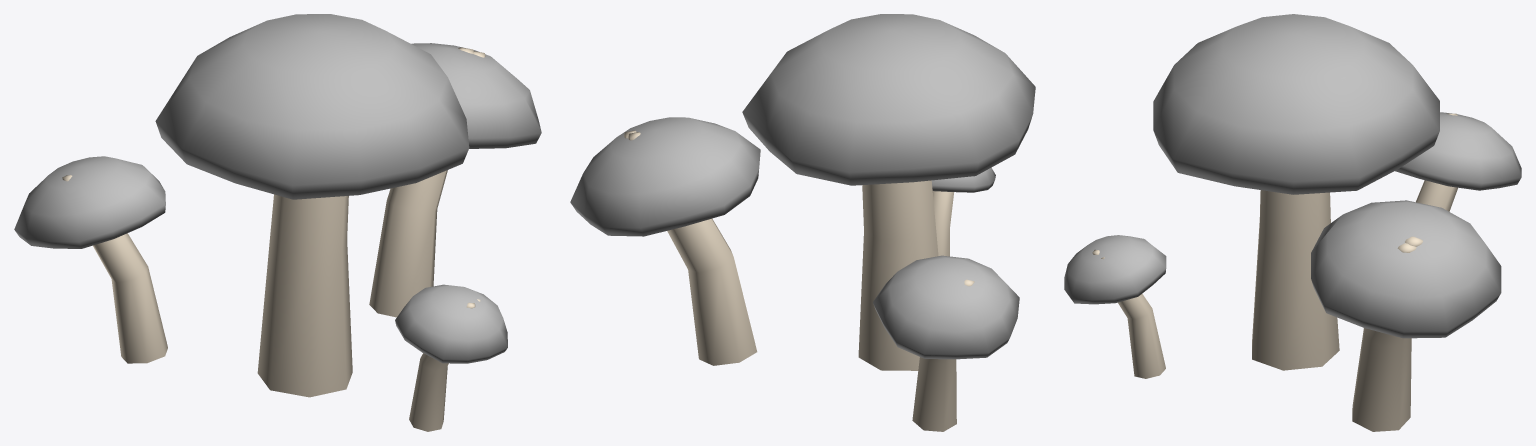
Rendered from mushroom.glb.
3 views of the same model, side by side, from view 1: azimuth 30°, elevation 25°; view 2: azimuth 150°, elevation 25°; view 3: azimuth 270°, elevation 25° (orthographic). The views are drawn at different scales.
Visible parts, largest first — view 1: mushroom_glow, mushroom_body; view 2: mushroom_glow, mushroom_body; view 3: mushroom_glow, mushroom_body.
Part boxes in pixels (x1=…): mushroom_glow: x1=14, y1=14, x2=541, y2=363; mushroom_body: x1=62, y1=47, x2=485, y2=431; mushroom_glow: x1=570, y1=14, x2=1035, y2=359; mushroom_body: x1=624, y1=130, x2=974, y2=431; mushroom_glow: x1=1064, y1=14, x2=1521, y2=338; mushroom_body: x1=1092, y1=113, x2=1457, y2=431.
Size of the model in its own units: 1.08 by 0.7505 by 0.9526.
